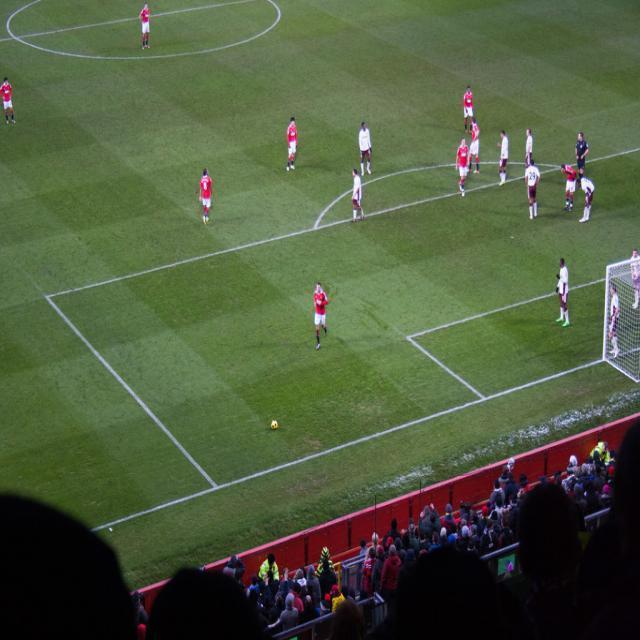football: (264, 415, 290, 446)
